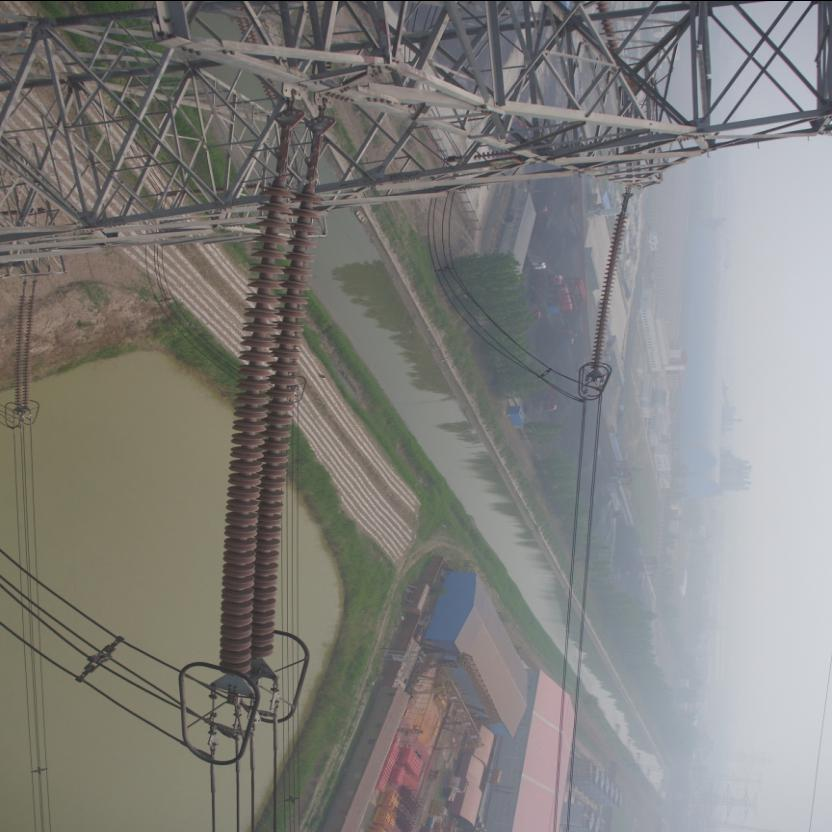insulator: (220, 157, 328, 681), (590, 203, 634, 370)
